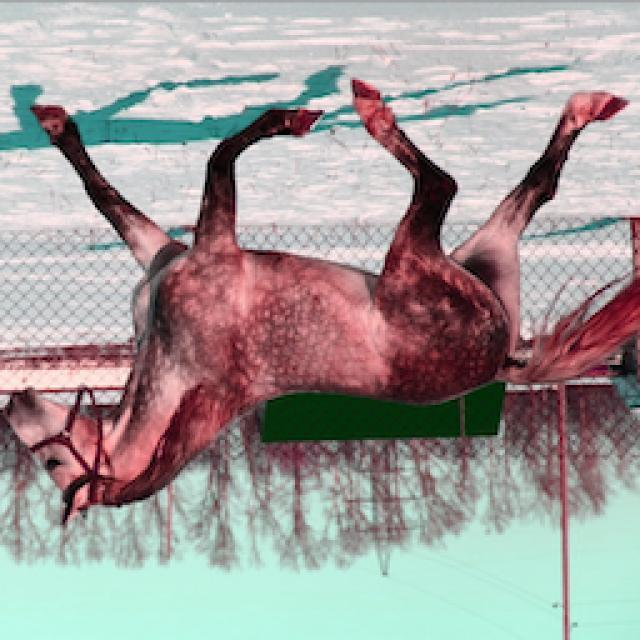Horse: (2, 75, 640, 533)
